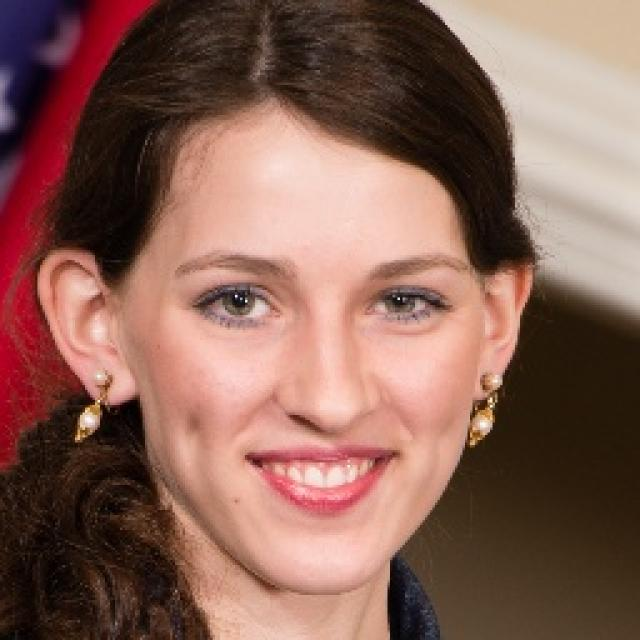earlobe: (35, 248, 135, 408), (473, 246, 534, 401)
